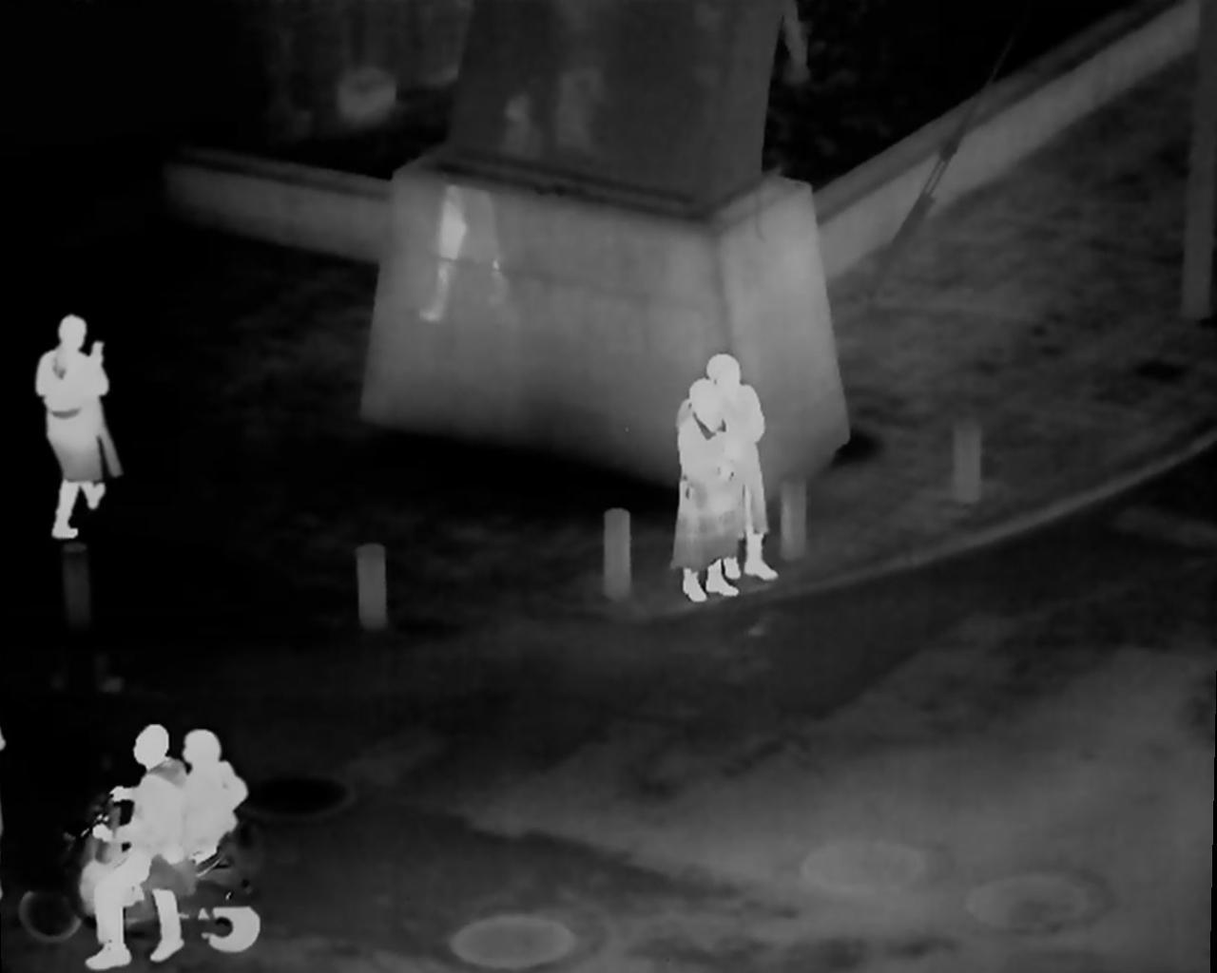person: (87, 724, 183, 968), (34, 311, 124, 540), (702, 351, 779, 583), (672, 379, 744, 607), (179, 728, 245, 973)
